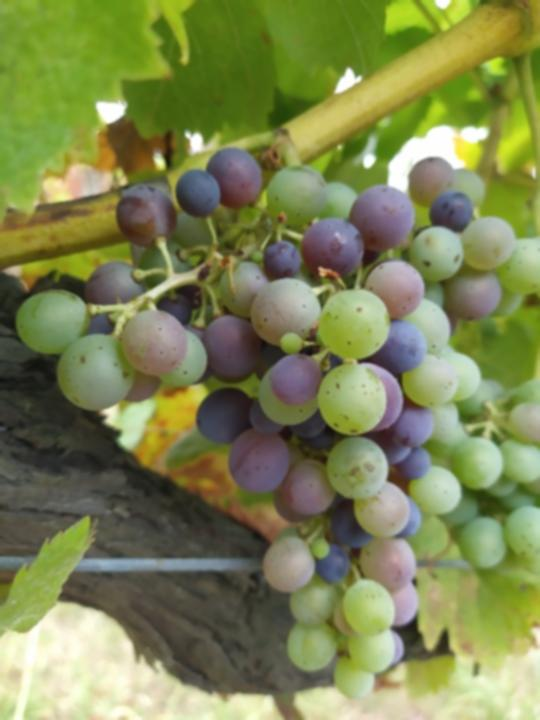grape: (12, 149, 540, 702)
